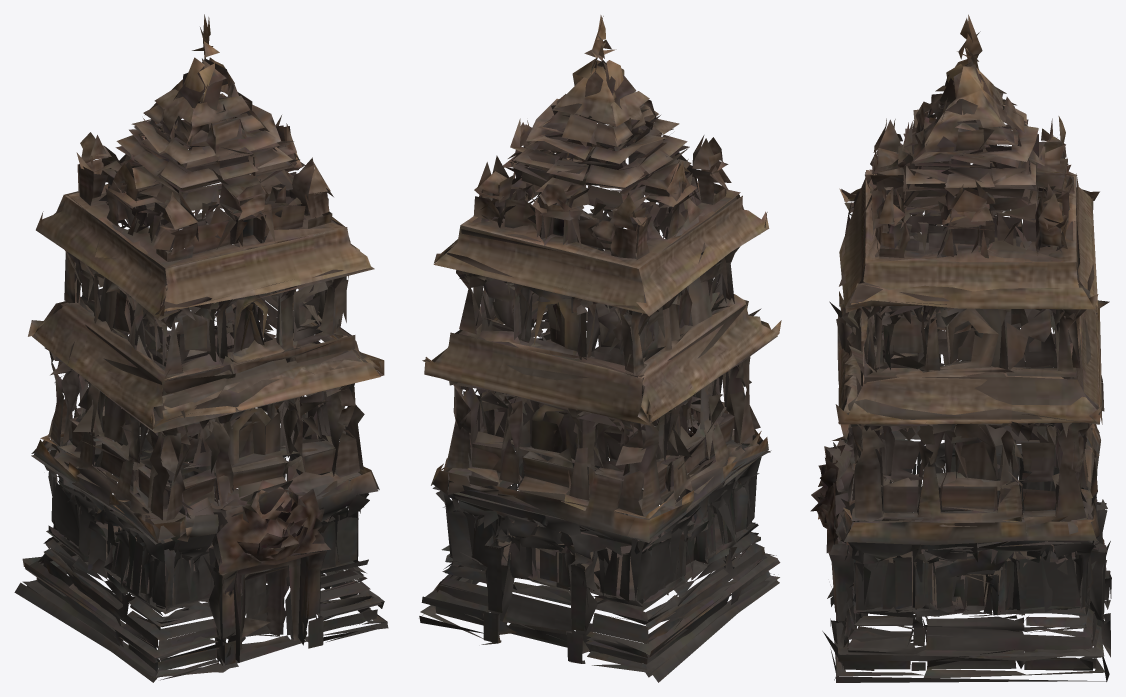
The model's file is tower-house.glb.
3 renders of one model, left to right at view 1: azimuth 30°, elevation 25°; view 2: azimuth 150°, elevation 25°; view 3: azimuth 270°, elevation 25°, orthographic. The views are drawn at different scales.
Parts seen in each view (by area): view 1: tower-house; view 2: tower-house; view 3: tower-house.
Boxes of the visible parts, box(x1,y1,x2,y2) form: tower-house: box(14, 14, 388, 682); tower-house: box(419, 15, 781, 682); tower-house: box(810, 14, 1111, 682).
Size of the model in its own units: 0.2568 by 0.6067 by 0.2689.
Materials: 1 (1 with a texture image).
